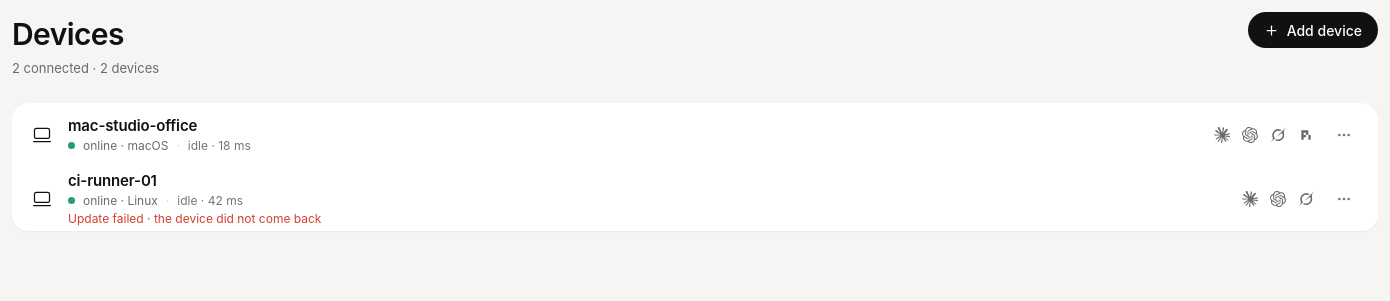
Scenario: device row menu › renders the panel on the body, outside the clipping list surface
Click the button named "Open menu" in the row of "mac-studio-office" at (1344, 134), box [1330,120,1358,148]
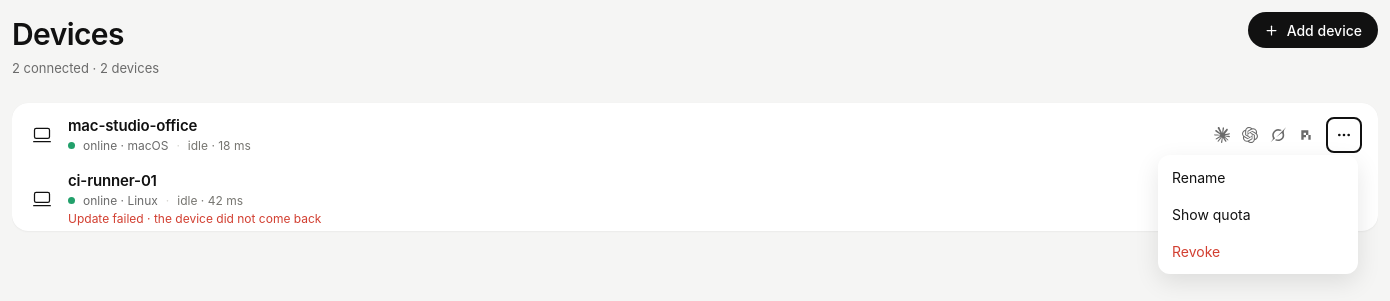
Expected: the element showing "Rename Show quota Revoke" is shown, [1158,155,1358,274]
